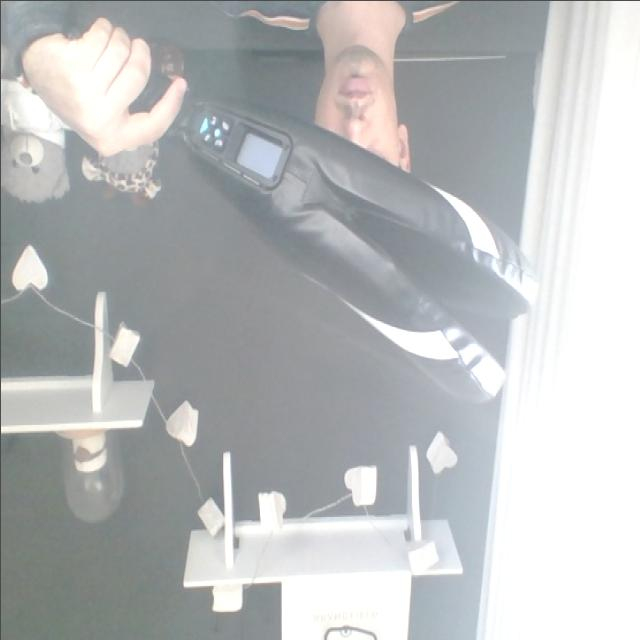paddle: (166, 89, 540, 409)
